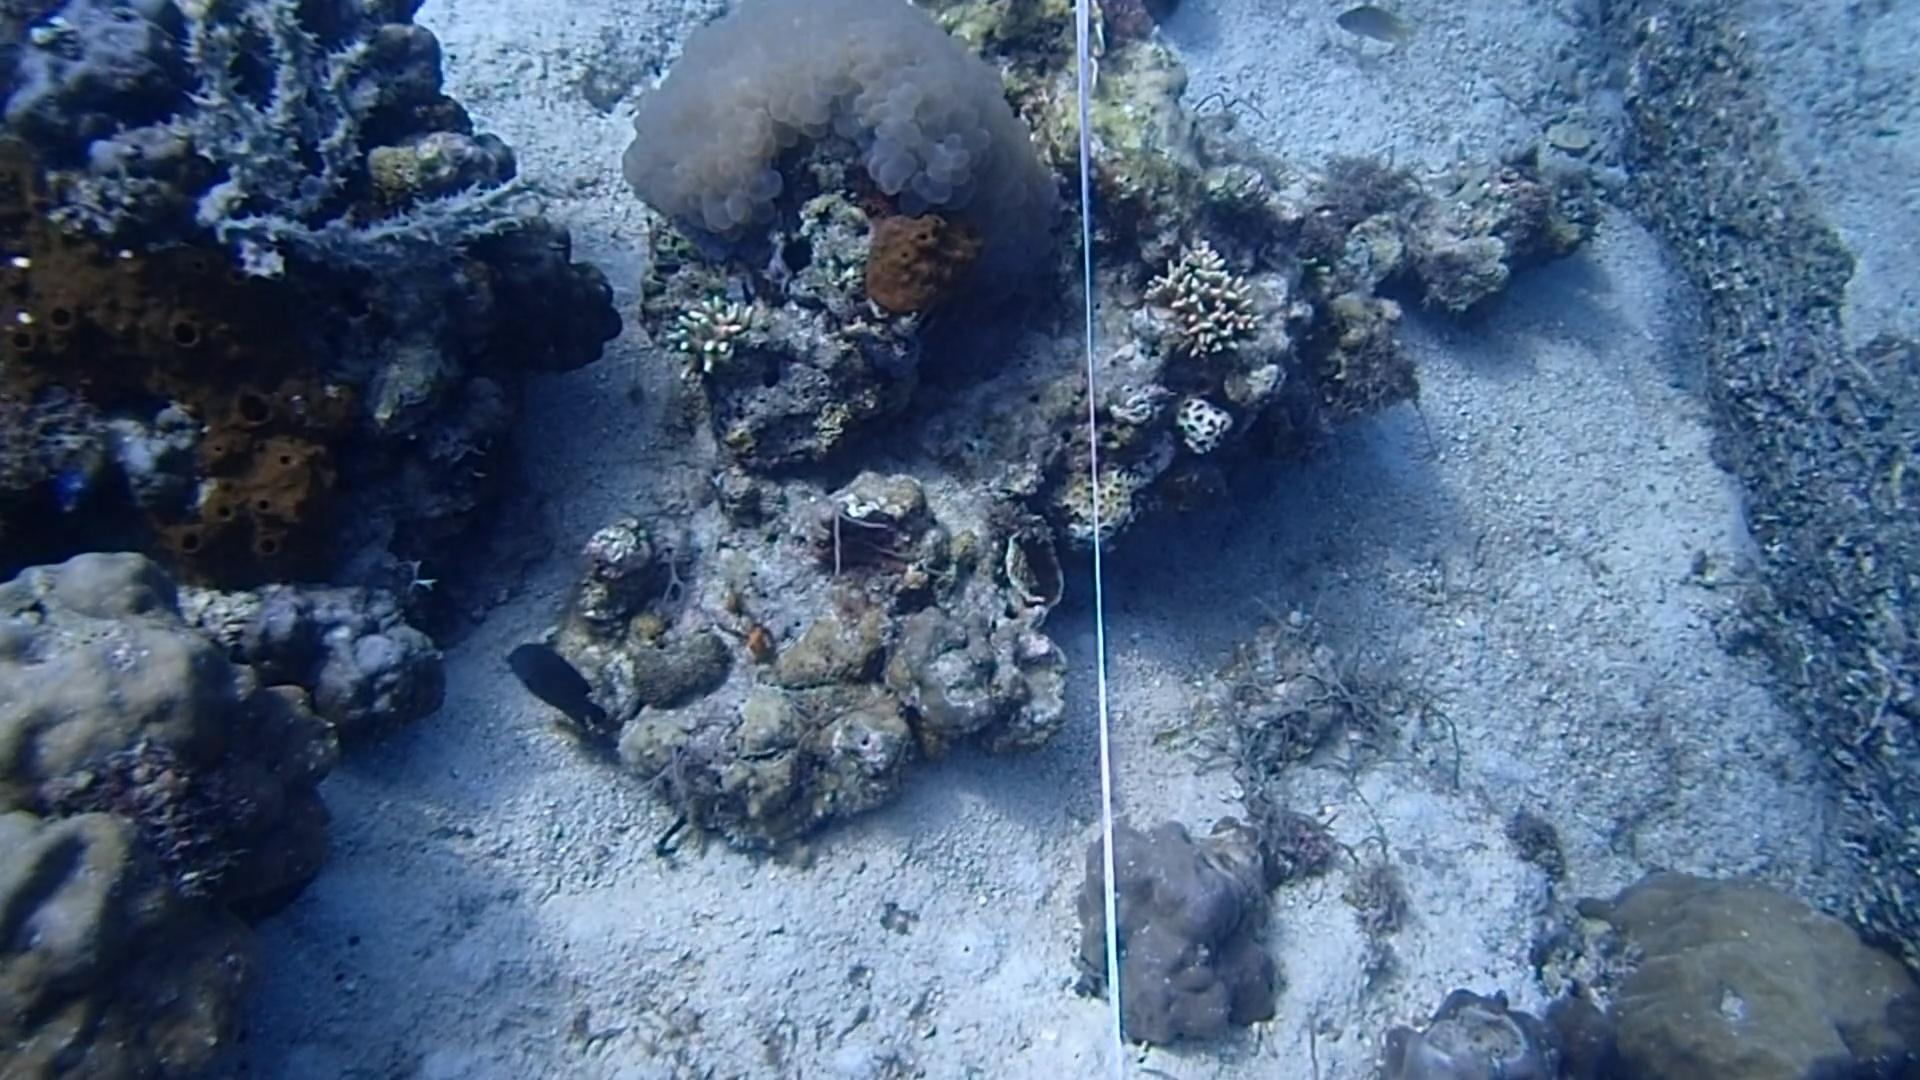Big Dark Blue Fish: (487, 633, 612, 738)
Light Fish: (1333, 0, 1425, 61)
